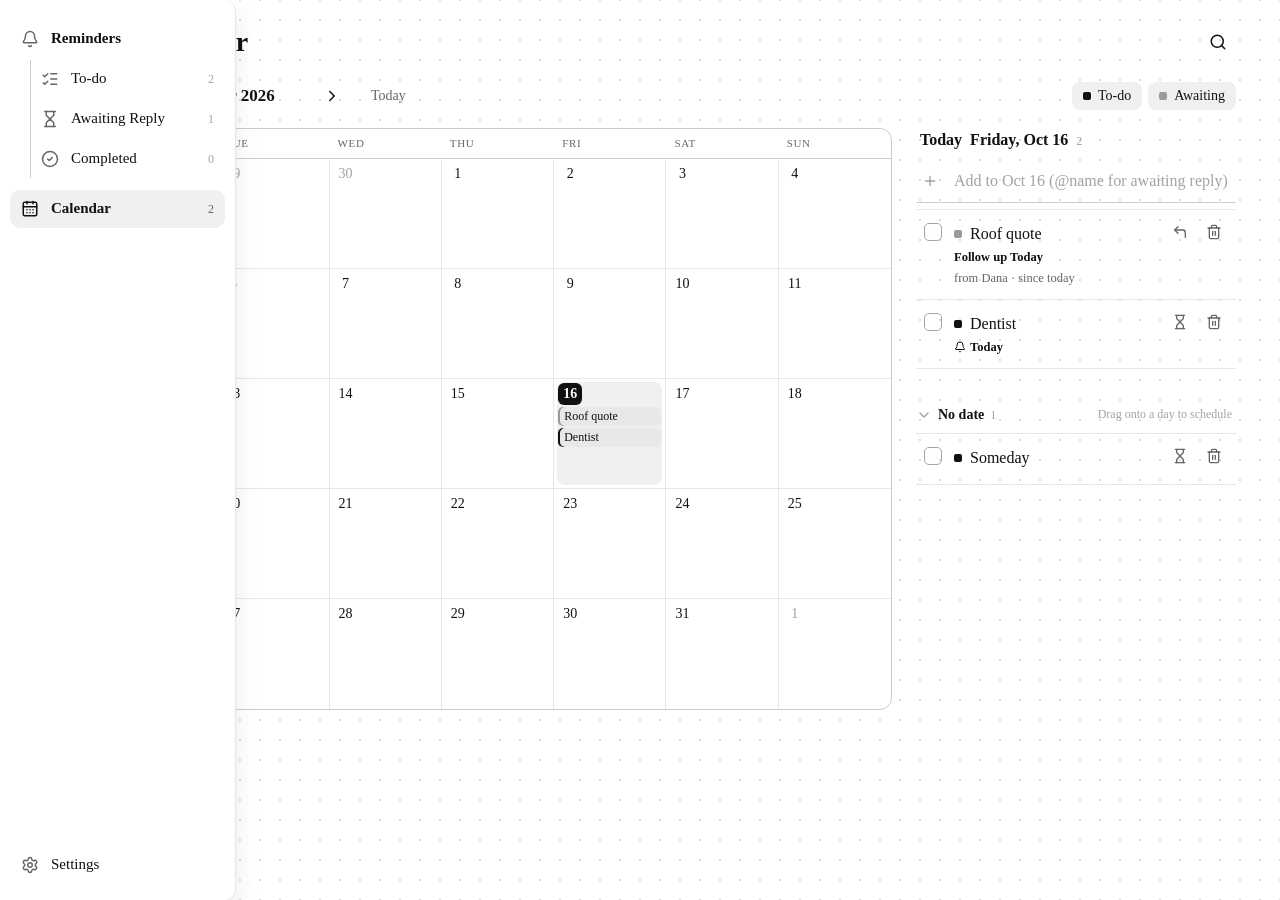
it: calendar › shows dated items in the grid and agenda, undated ones in the tray
Expected: the text "Dentist" is shown, [564,429,599,446]
Expected: the text "Roof quote" is shown, [564,408,618,425]
# Hide Awaiting Reply items.
Click the button "Awaiting" at (1192, 96), box [1148,82,1236,110]
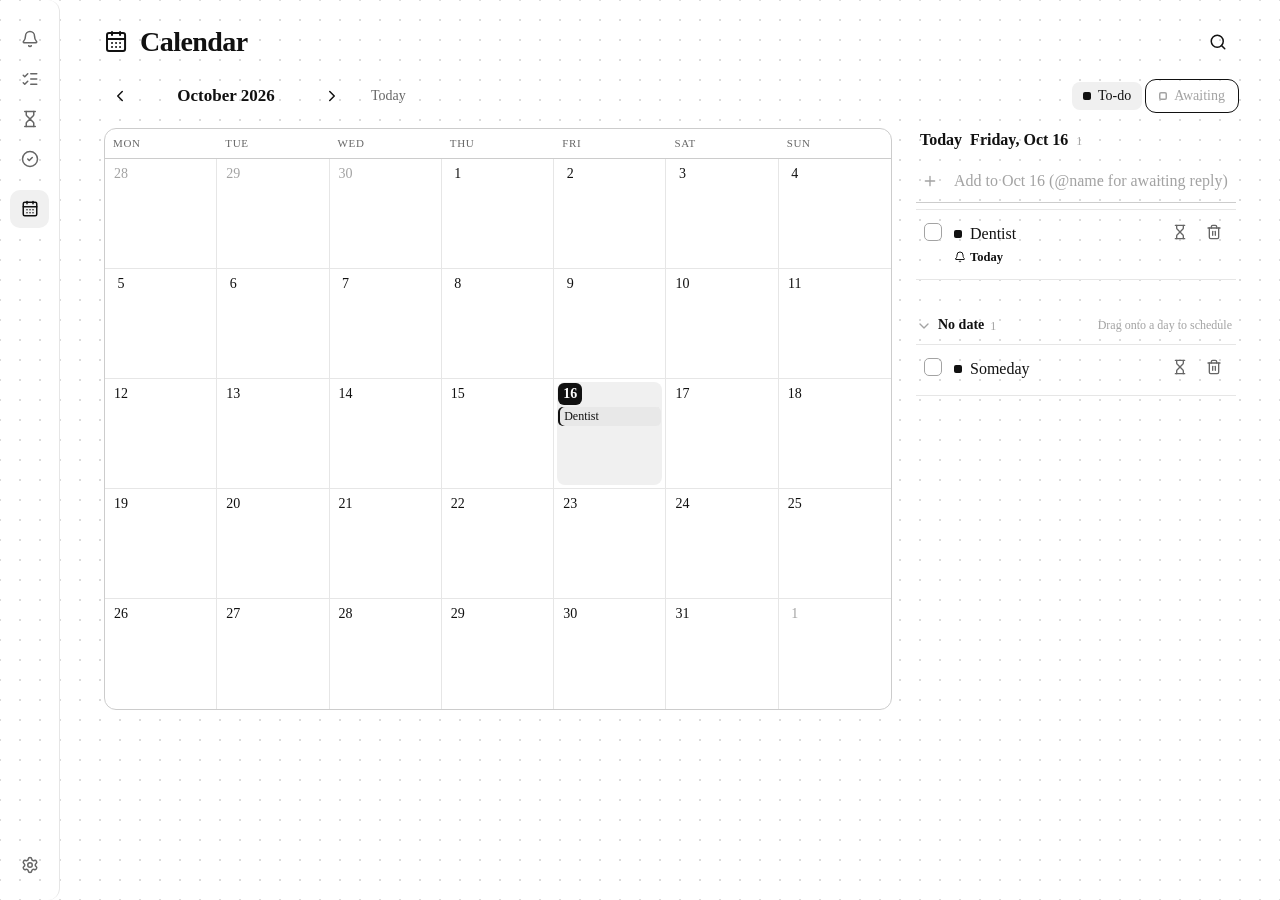
Expected: the text "Dentist" is shown, [564,408,599,425]
Result: the button "Roof quote" is gone
